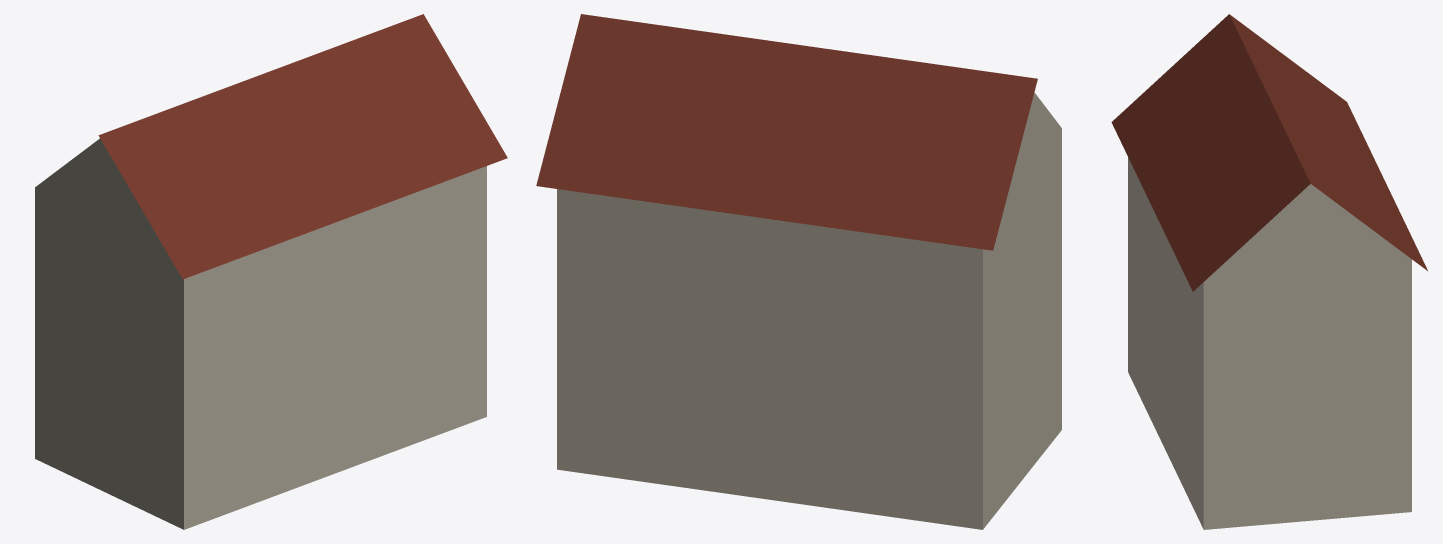
The picture shows the model from 3 angles, left to right: view 1: azimuth 30°, elevation 25°; view 2: azimuth 150°, elevation 25°; view 3: azimuth 270°, elevation 25°; orthographic projection. The views are drawn at different scales.
Visible parts, largest first — view 1: buildings; view 2: buildings; view 3: buildings.
Boxes of the visible parts, bbox=[...] form: buildings: bbox=[35, 14, 507, 529]; buildings: bbox=[536, 14, 1061, 529]; buildings: bbox=[1111, 14, 1427, 529].
Bounding box in the file's own units: 9.7 × 8.17 × 6.84.
